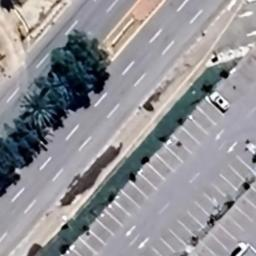sedan: (210, 87, 231, 114)
